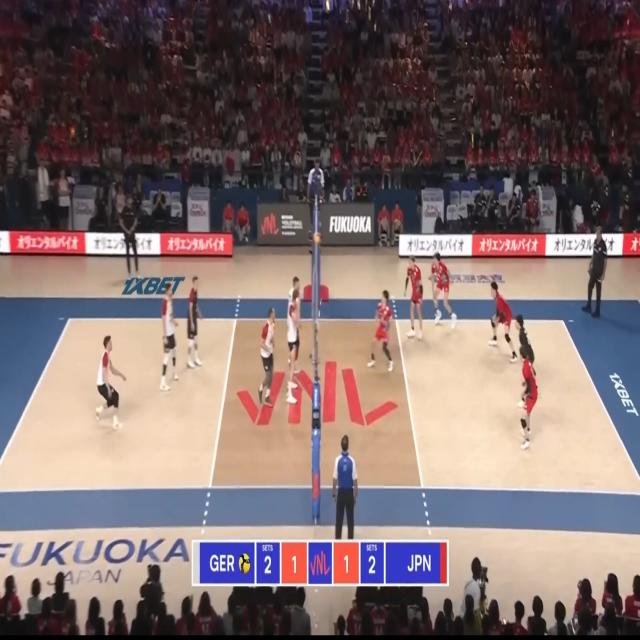ball: (314, 232, 320, 244)
